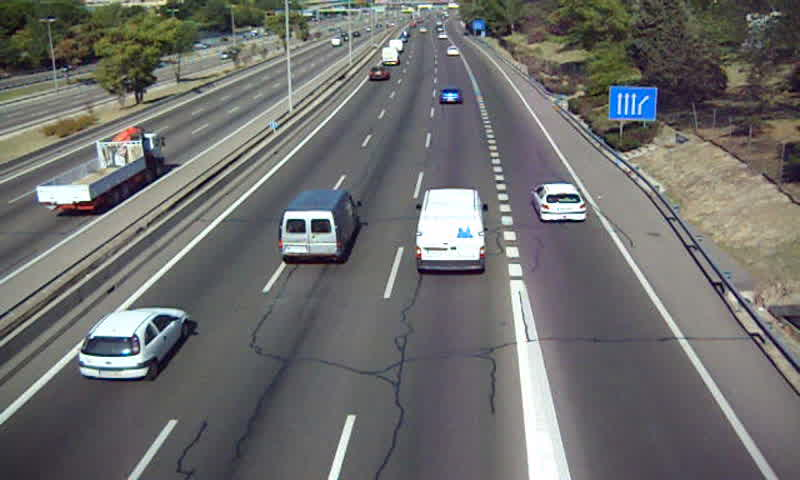car: (77, 308, 191, 384), (532, 182, 588, 222), (438, 87, 464, 104), (368, 66, 389, 82)
van: (278, 190, 361, 263), (415, 189, 485, 275), (381, 47, 399, 66)
